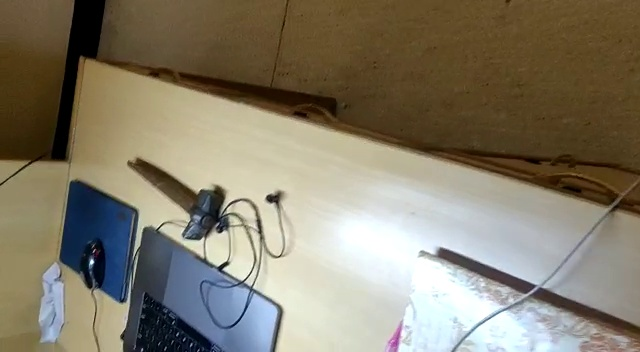hammer: (124, 157, 223, 243)
